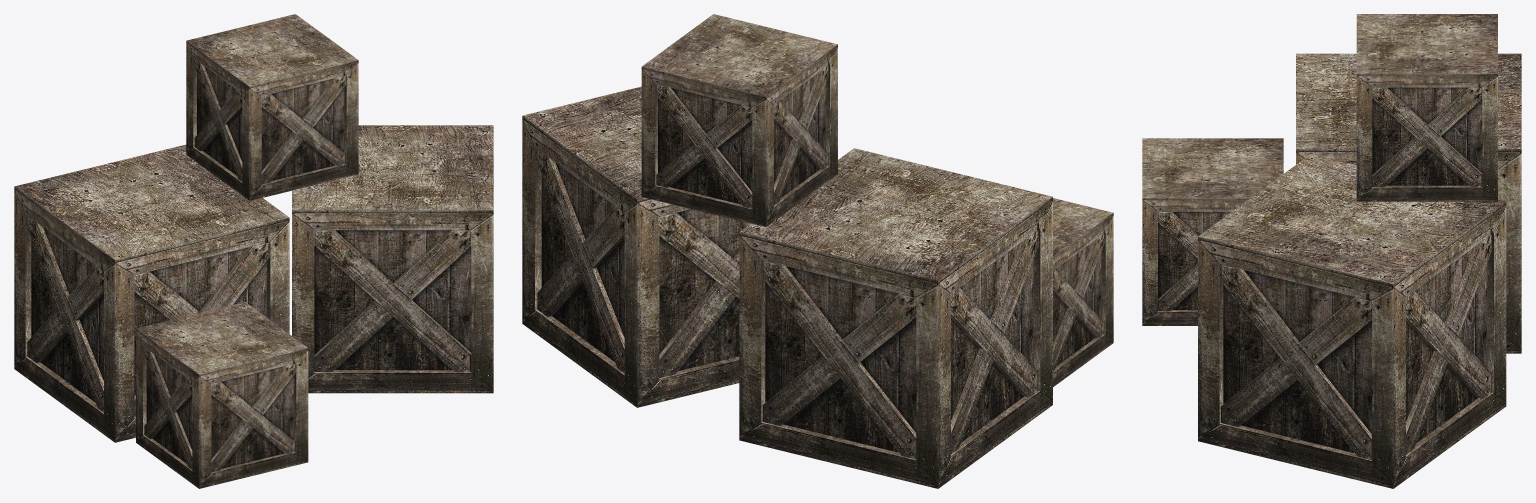
The model's file is crates_indoor.glb.
The picture shows the model from 3 angles, left to right: view 1: azimuth 30°, elevation 25°; view 2: azimuth 150°, elevation 25°; view 3: azimuth 270°, elevation 25°; orthographic projection. The views are drawn at different scales.
Visible parts, largest first — view 1: 0_Crates_indoor; view 2: 0_Crates_indoor; view 3: 0_Crates_indoor.
Part boxes in pixels (left/top/right/bottom): 0_Crates_indoor: left=14, top=14, right=493, bottom=488; 0_Crates_indoor: left=522, top=14, right=1113, bottom=488; 0_Crates_indoor: left=1142, top=14, right=1521, bottom=488.
Bounding box in the file's own units: 3.93 × 2.64 × 2.73.
Materials: 1 (1 with a texture image).
